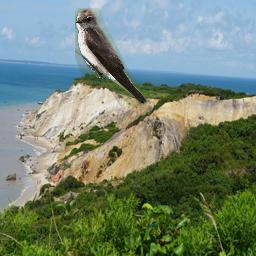Swallow: (75, 8, 149, 106)
